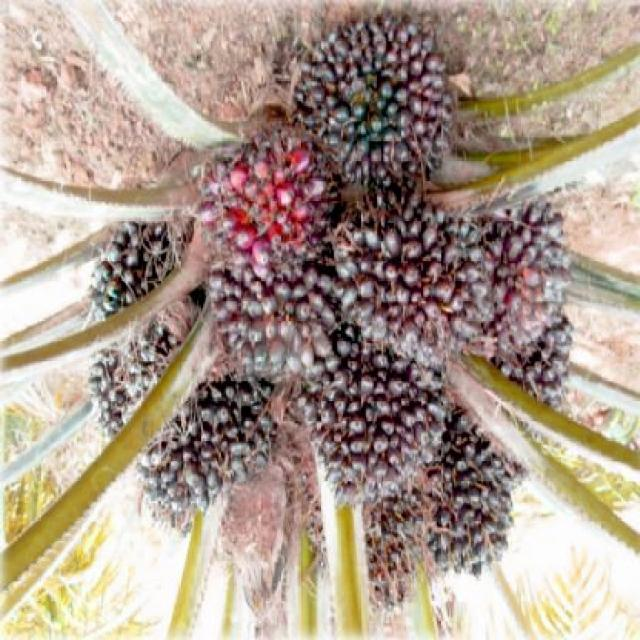palm-oil: (106, 216, 301, 529), (296, 13, 474, 214), (342, 411, 523, 594), (297, 329, 451, 484), (336, 206, 494, 354), (464, 177, 562, 372), (203, 115, 332, 263), (515, 327, 583, 433)
